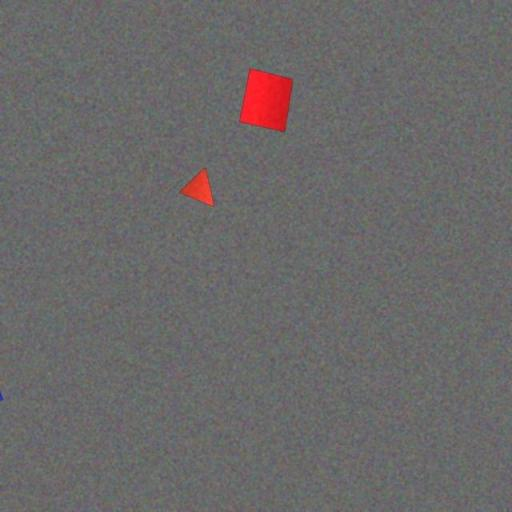RED_SQUARE: (239, 68, 294, 133)
